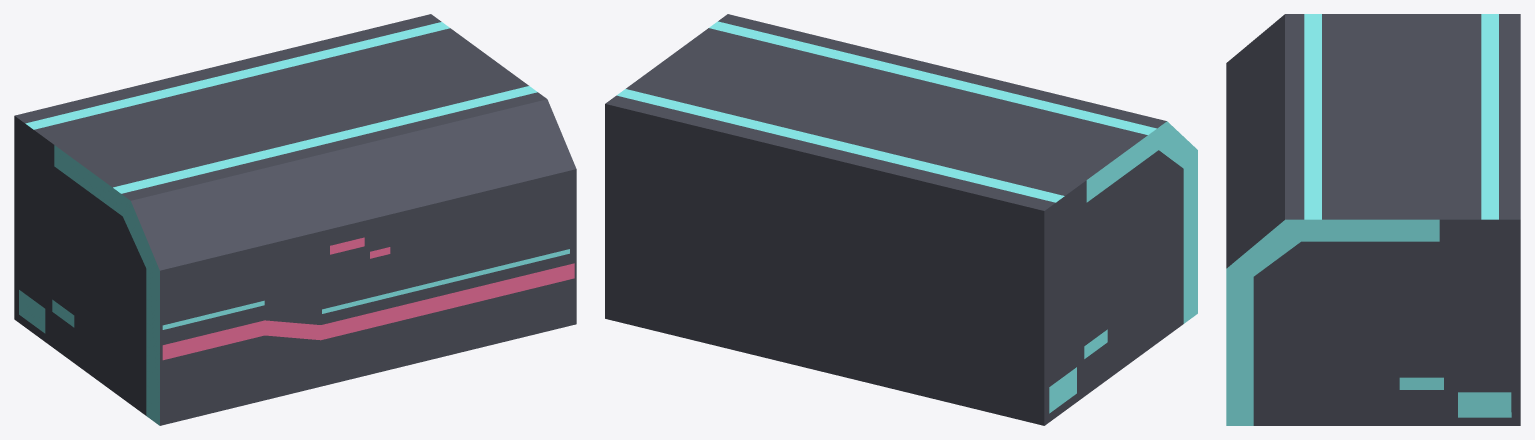
The picture shows the model from 3 angles, left to right: view 1: azimuth 30°, elevation 25°; view 2: azimuth 150°, elevation 25°; view 3: azimuth 270°, elevation 25°; orthographic projection. The views are drawn at different scales.
Parts seen in each view (by area): view 1: PK_SD_02; view 2: PK_SD_02; view 3: PK_SD_02.
Boxes of the visible parts, left/top/right/bottom form: PK_SD_02: left=14, top=14, right=576, bottom=425; PK_SD_02: left=605, top=14, right=1197, bottom=425; PK_SD_02: left=1226, top=14, right=1520, bottom=425.
Bounding box in the file's own units: 5.99 × 2.8 × 3.62.
